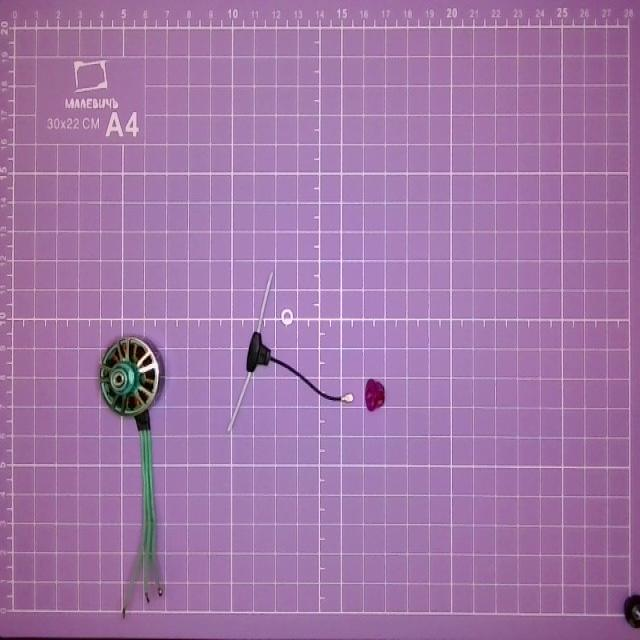antenna: (230, 275, 353, 433)
motor: (100, 334, 166, 617)
screw_M3: (279, 306, 295, 329)
screw_M5: (364, 375, 387, 418), (622, 590, 640, 635)
